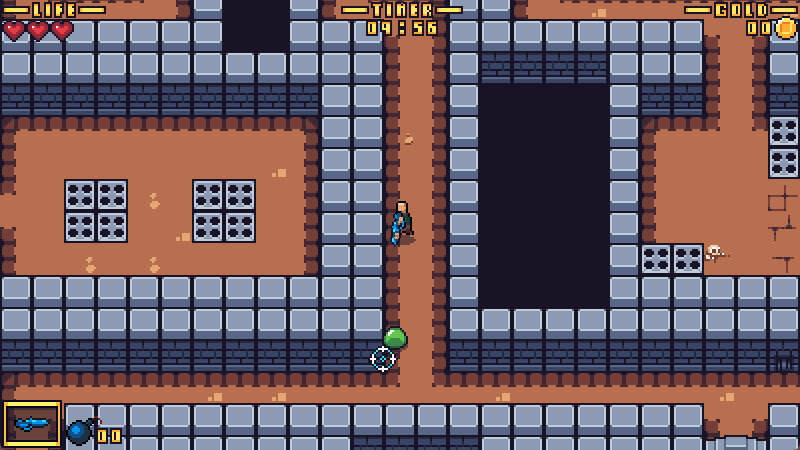aim: (370, 346, 397, 372)
bomb_counter_0: (65, 414, 124, 449)
enemy_slug: (381, 325, 410, 351)
gold_counter: (685, 1, 798, 38)
health: (1, 20, 75, 44)
player: (389, 199, 416, 247)
timer: (340, 1, 463, 37)
trap_off: (64, 178, 129, 242), (192, 179, 255, 244), (639, 245, 702, 275), (771, 117, 800, 176)
